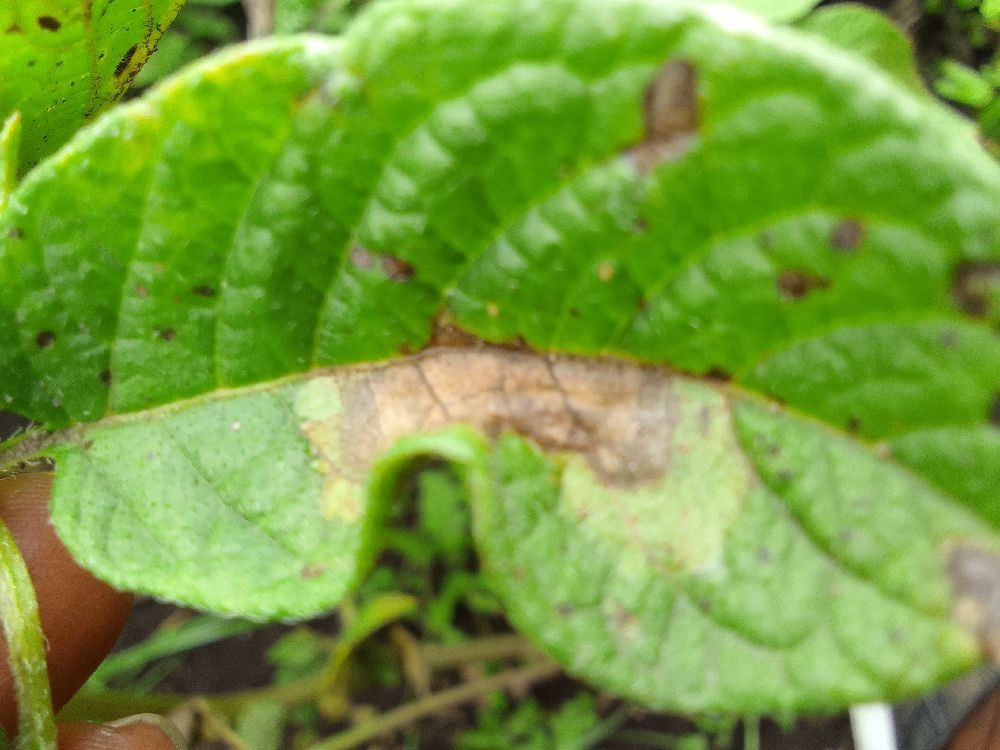late_blight: (0, 396, 602, 749), (865, 516, 1000, 750), (793, 0, 1000, 144), (607, 48, 713, 184)
